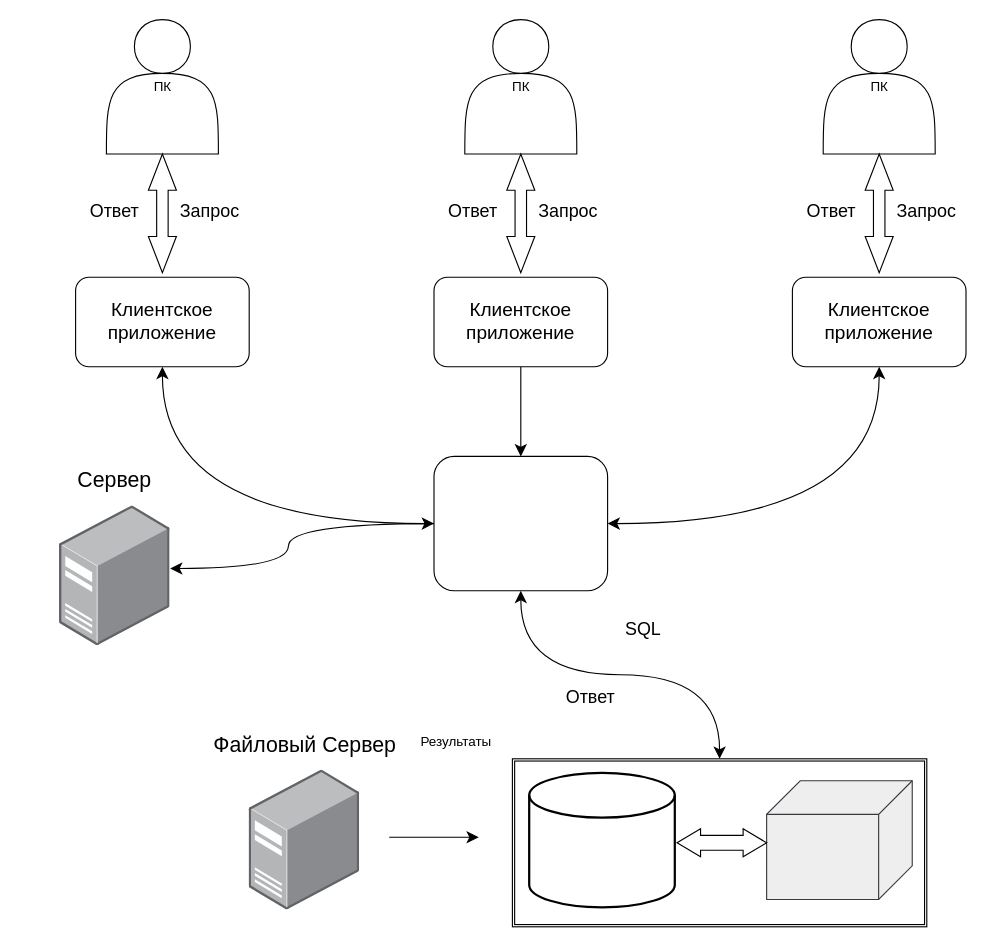
This 986x946 diagram has some shape labels left out. The shapes that lost their labels are listed below. From the top down, each one's centre as x and y in pixels, then its label:
the point at 520,523: Приложение сервера (Бизнес-логика)
the point at 601,839: БД
the point at 839,839: СУБД
